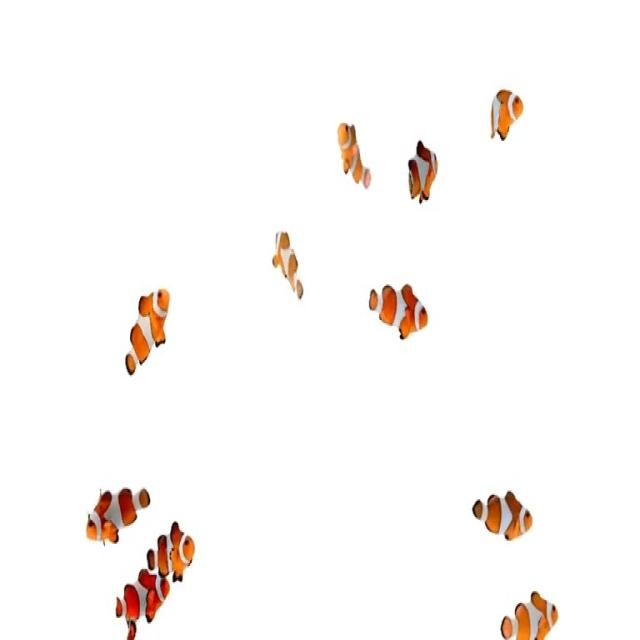fish: (365, 261, 432, 353), (465, 477, 537, 557), (68, 479, 154, 545), (118, 288, 173, 383), (110, 570, 182, 634), (490, 584, 570, 640), (325, 106, 375, 192), (269, 206, 309, 309), (141, 516, 198, 582), (401, 128, 444, 208), (492, 74, 525, 144)
